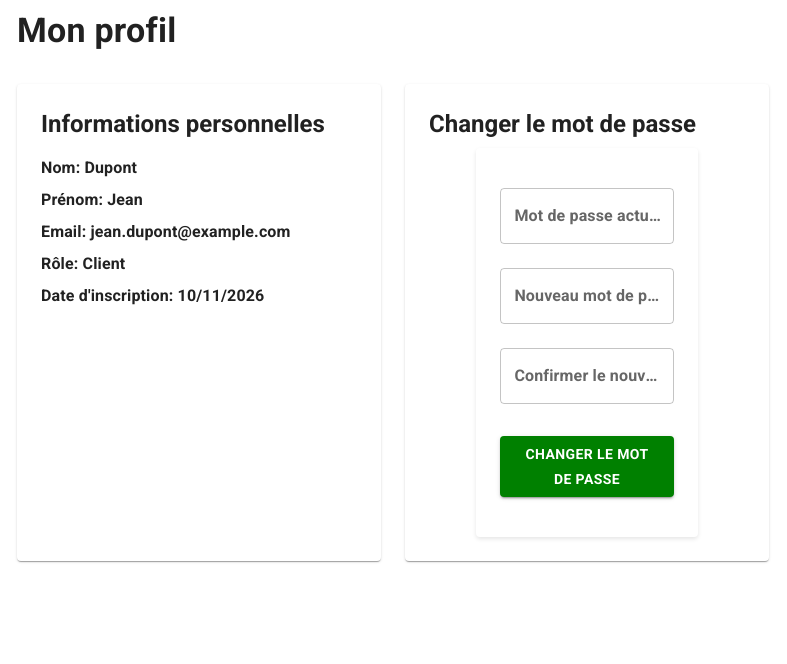
Test case: ProfilePage › shows error when passwords do not match
The image size is (787, 664).
// Fill the form with non-matching passwords
Type "CurrentPassword123!" into the password field labelled "Mot de passe actuel *" at point(587, 216), box [500,188,674,244]
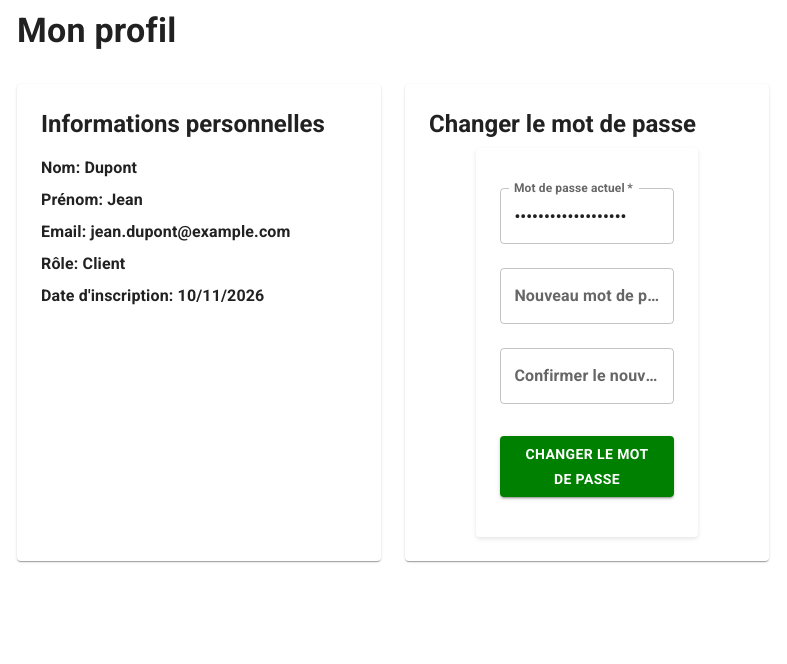
Type "NewPassword123!" into the password field labelled "Nouveau mot de passe *" at point(587, 296), box [500,268,674,324]
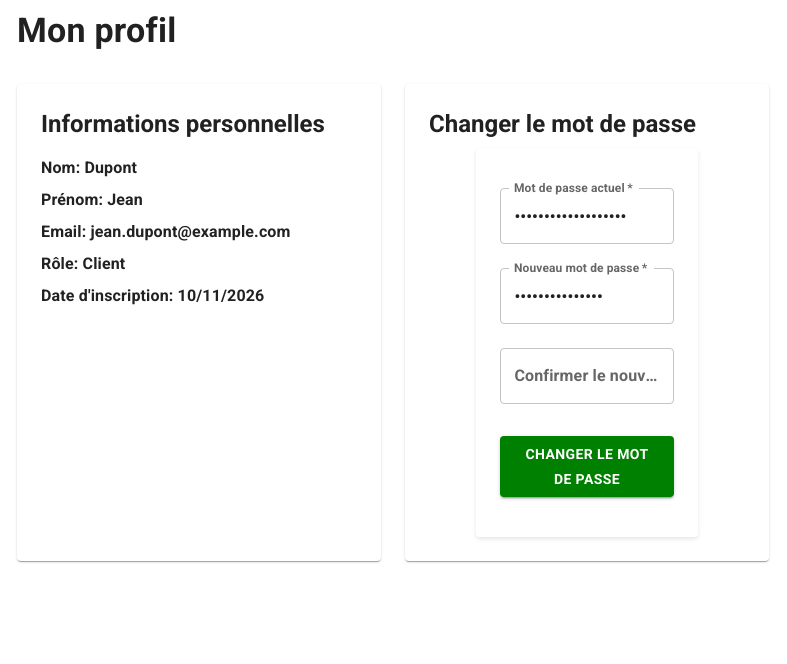
Type "DifferentPassword123!" into the password field labelled "Confirmer le nouveau mot de passe *" at point(587, 376), box [500,348,674,404]
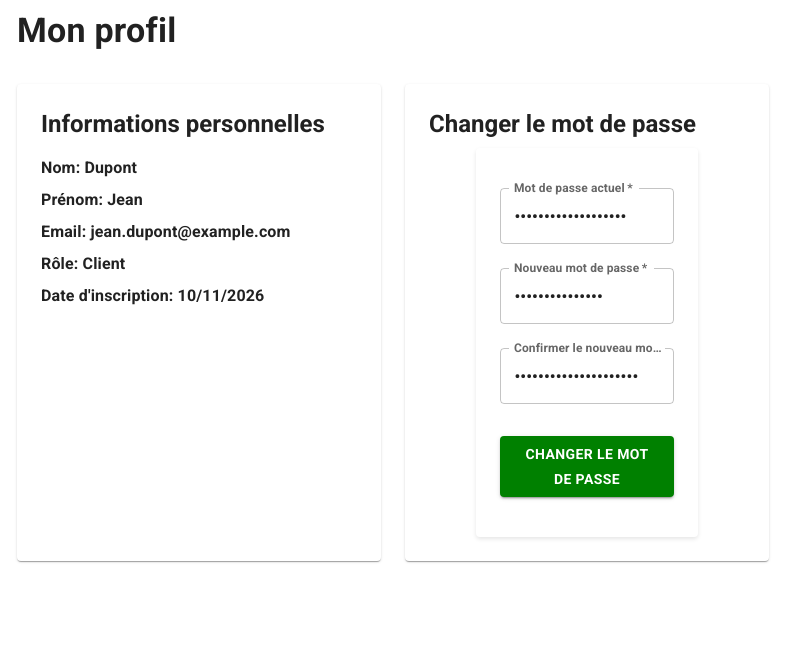
// Submit the form
Click the button "Changer le mot de passe" at point(587, 467), box [500,436,674,497]
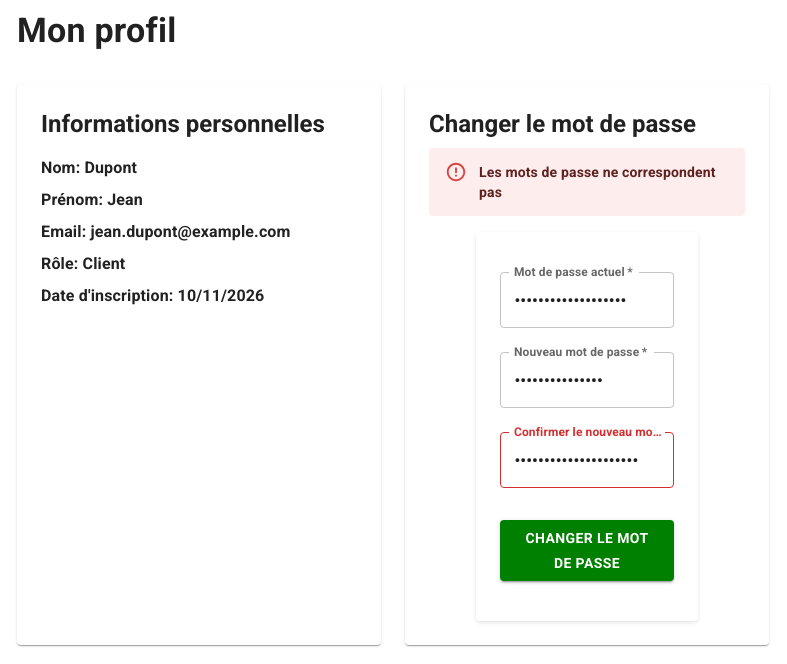
Now the text "Les mots de passe ne correspondent pas" is shown, box [479,154,729,210]
